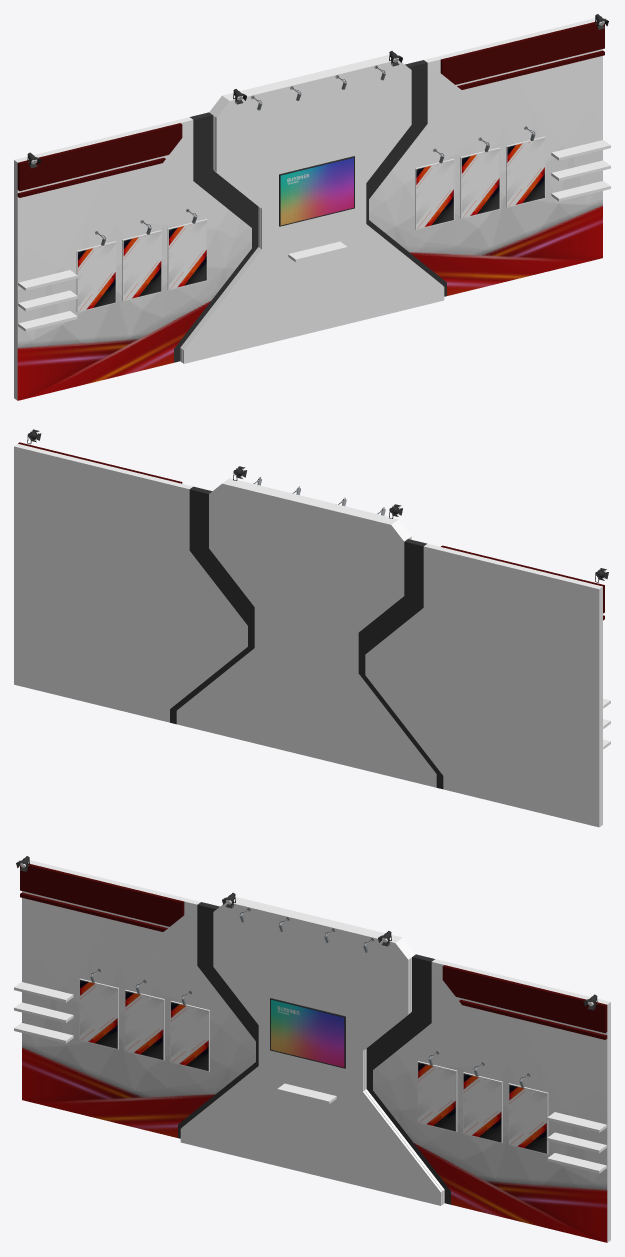
The model's file is StandCentro.obj.
3 renders of one model, top to bottom at view 1: azimuth 30°, elevation 25°; view 2: azimuth 150°, elevation 25°; view 3: azimuth 330°, elevation 25°, orthographic.
Visible parts, largest first — view 1: backwall_image, white_contruction, web_panel, grey_panel, rack_shelves, TV_, poster002, poster004, poster, poster001, poster005, poster003 (+1 smaller); view 2: white_contruction, grey_panel, web_panel; view 3: backwall_image, white_contruction, web_panel, grey_panel, rack_shelves, TV_, poster001, poster003, poster005, poster, poster004, poster002 (+1 smaller).
Boxes of the visible parts, x1=… form: backwall_image: x1=17, y1=49, x2=602, y2=400; white_contruction: x1=14, y1=18, x2=596, y2=400; web_panel: x1=17, y1=21, x2=604, y2=197; grey_panel: x1=174, y1=60, x2=446, y2=362; rack_shelves: x1=18, y1=140, x2=610, y2=331; TV_: x1=279, y1=156, x2=354, y2=226; poster002: x1=167, y1=219, x2=207, y2=290; poster004: x1=460, y1=147, x2=500, y2=218; poster: x1=76, y1=241, x2=116, y2=312; poster001: x1=122, y1=230, x2=161, y2=301; poster005: x1=506, y1=136, x2=545, y2=207; poster003: x1=415, y1=159, x2=454, y2=229; white_contruction: x1=14, y1=444, x2=602, y2=827; grey_panel: x1=170, y1=486, x2=443, y2=789; web_panel: x1=18, y1=442, x2=604, y2=620; backwall_image: x1=22, y1=891, x2=607, y2=1242; white_contruction: x1=28, y1=860, x2=610, y2=1242; web_panel: x1=20, y1=863, x2=607, y2=1039; grey_panel: x1=178, y1=902, x2=450, y2=1204; rack_shelves: x1=14, y1=982, x2=606, y2=1173; TV_: x1=270, y1=998, x2=345, y2=1068; poster001: x1=124, y1=989, x2=164, y2=1060; poster003: x1=417, y1=1061, x2=457, y2=1132; poster005: x1=508, y1=1083, x2=548, y2=1154; poster: x1=79, y1=978, x2=118, y2=1049; poster004: x1=463, y1=1072, x2=502, y2=1143; poster002: x1=170, y1=1001, x2=209, y2=1071.
Bounding box in the file's own units: 900 × 385 × 43.98.
Materials: 12 (3 with a texture image).
